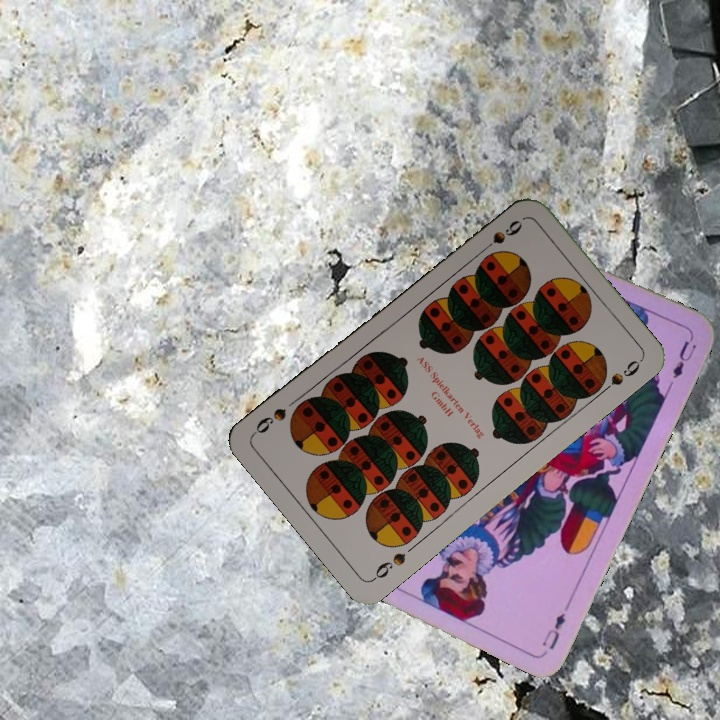EU: (537, 609, 569, 652)
S9: (475, 216, 525, 257), (368, 548, 409, 584)
